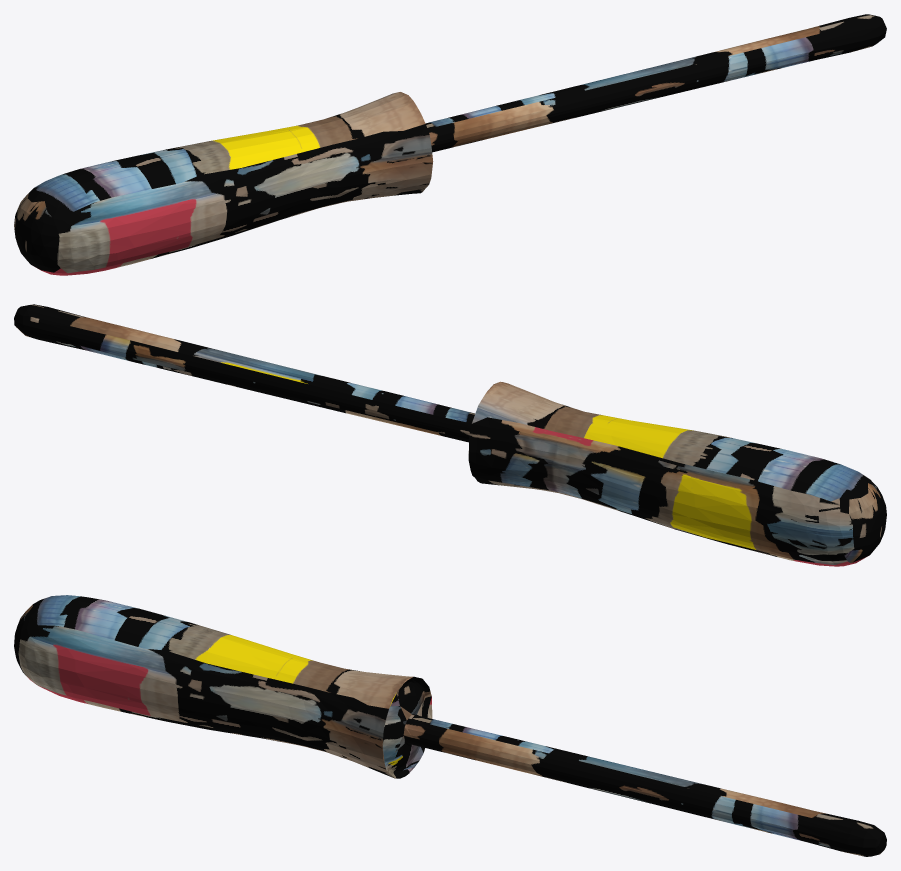
File: black_screwdriver.obj
3 views of the same model, one above another, from view 1: azimuth 30°, elevation 25°; view 2: azimuth 150°, elevation 25°; view 3: azimuth 330°, elevation 25° (orthographic).
Visible parts, largest first — view 1: geometry_0; view 2: geometry_0; view 3: geometry_0.
Part boxes in pixels (x1=…): geometry_0: x1=14, y1=14, x2=886, y2=275; geometry_0: x1=14, y1=304, x2=886, y2=566; geometry_0: x1=14, y1=595, x2=886, y2=856.
Bounding box in the file's own units: 0.2801 × 0.0299 × 0.0293.
